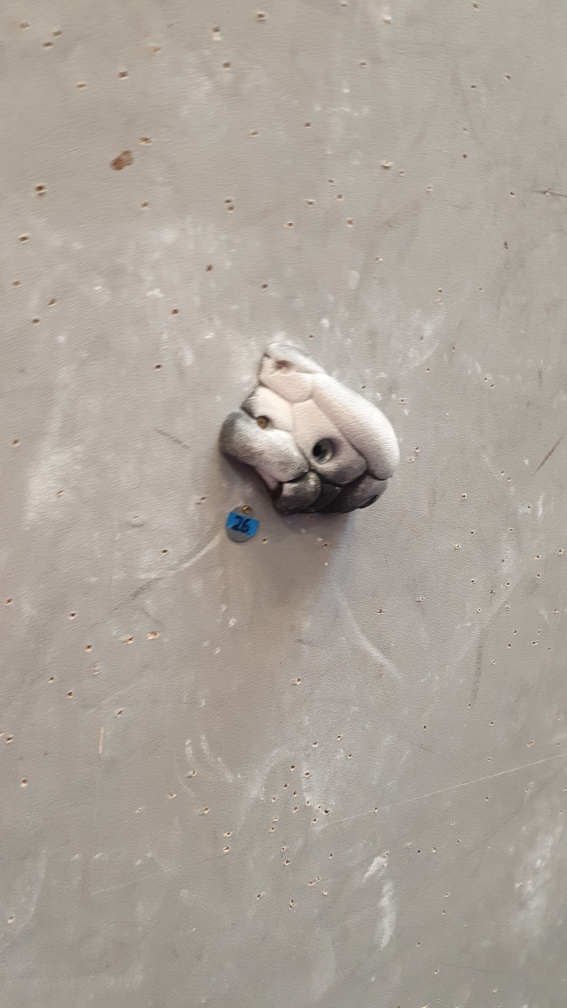Hand Start: (223, 504, 261, 542)
Jug: (221, 337, 401, 517)
